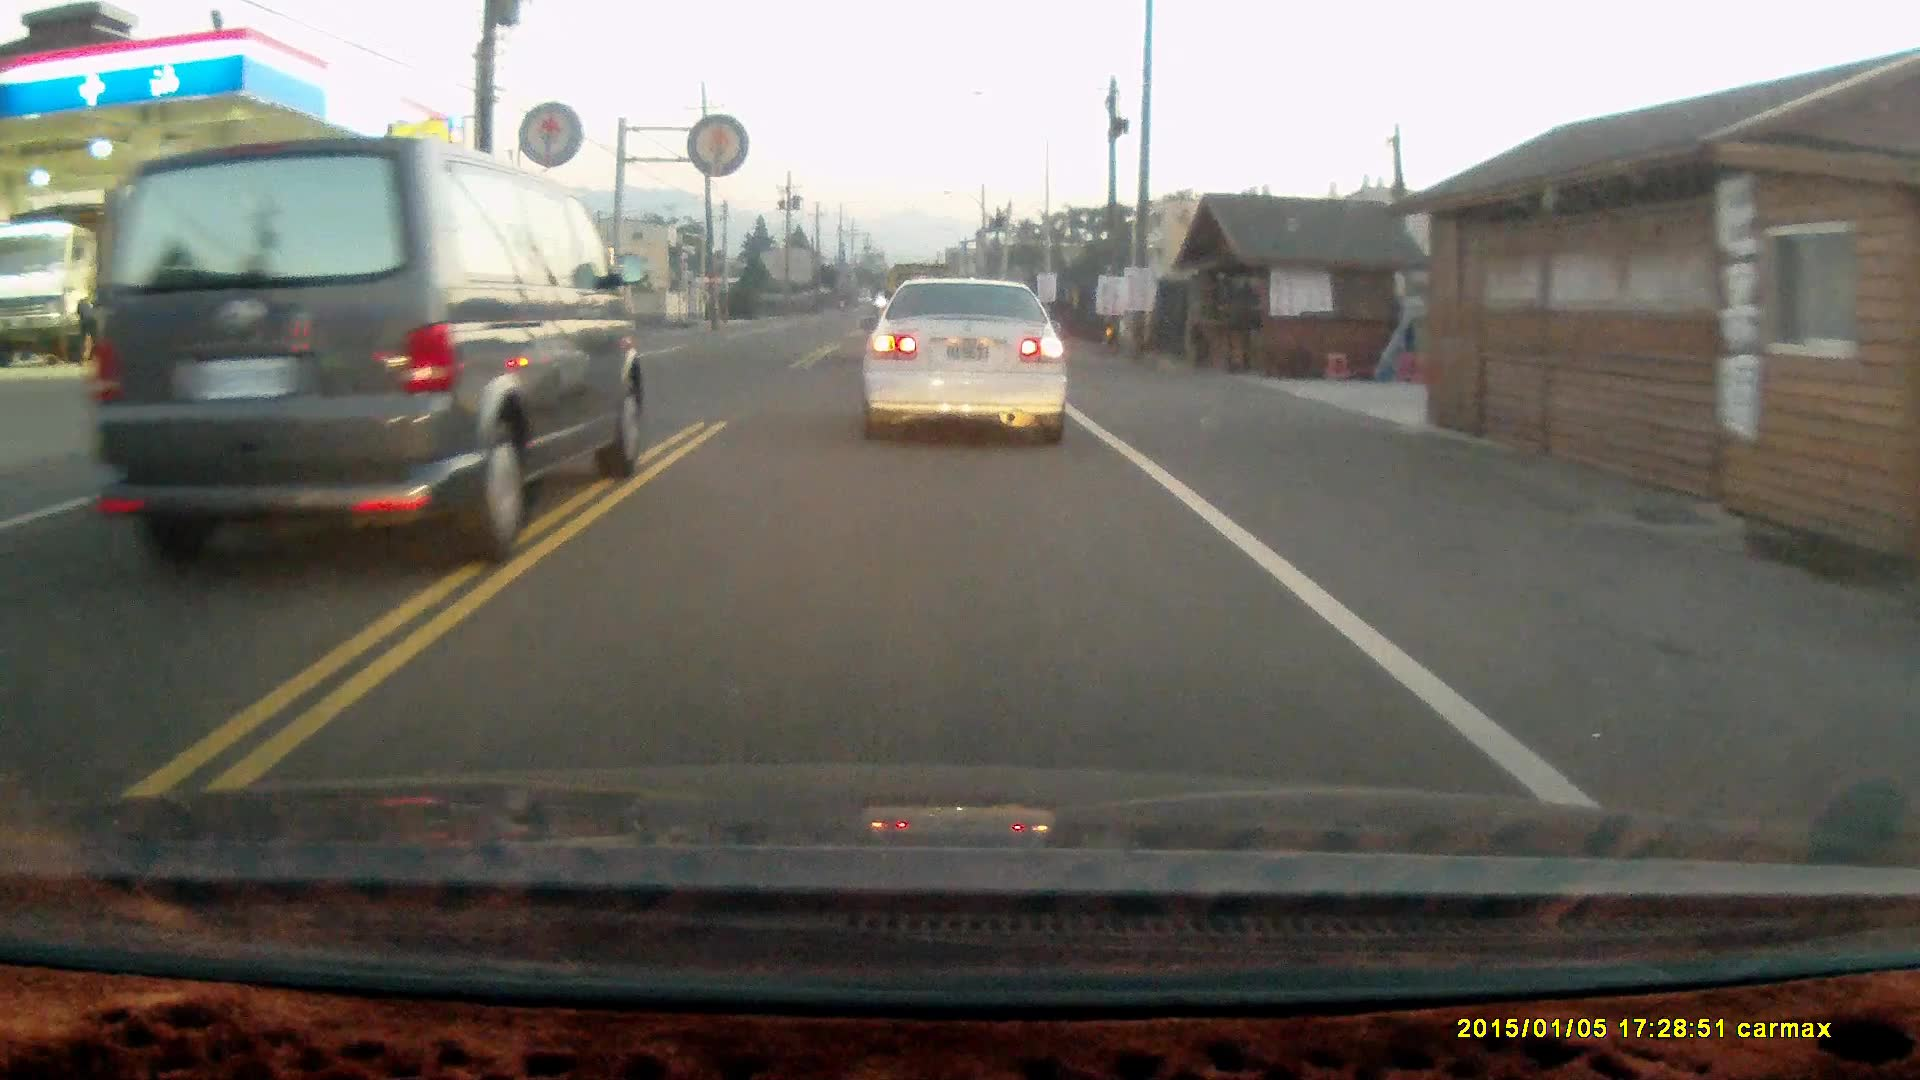pedestrian: (67, 279, 105, 365)
vehicle: (91, 142, 639, 579), (863, 280, 1070, 455), (2, 198, 143, 365)
